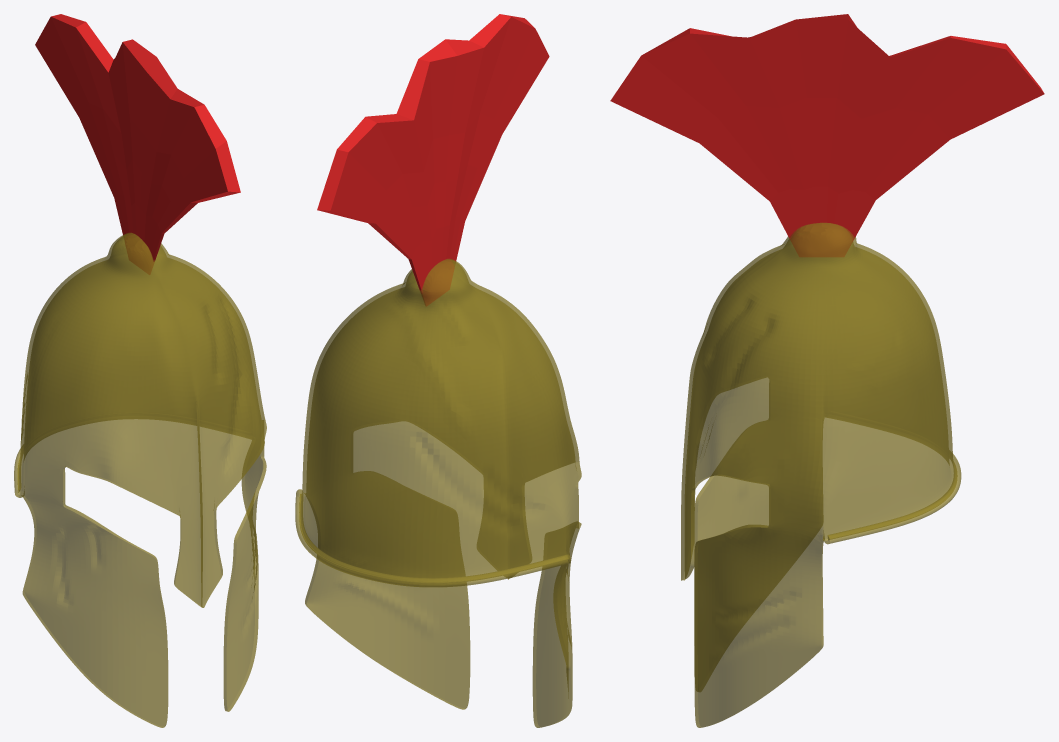
Rendered from wingoalRoman.fbx.
3 renders of one model, left to right at view 1: azimuth 30°, elevation 25°; view 2: azimuth 150°, elevation 25°; view 3: azimuth 270°, elevation 25°, orthographic. The views are drawn at different scales.
Parts seen in each view (by area): view 1: Sphere, Cube; view 2: Sphere, Cube; view 3: Sphere, Cube.
Boxes of the visible parts, <box> form: Sphere: <box>14,232,266,727</box>; Cube: <box>35,14,240,274</box>; Sphere: <box>295,258,581,727</box>; Cube: <box>317,14,549,306</box>; Sphere: <box>681,222,961,727</box>; Cube: <box>610,14,1044,256</box>.
Bounding box in the file's own units: 256 × 636 × 362.
